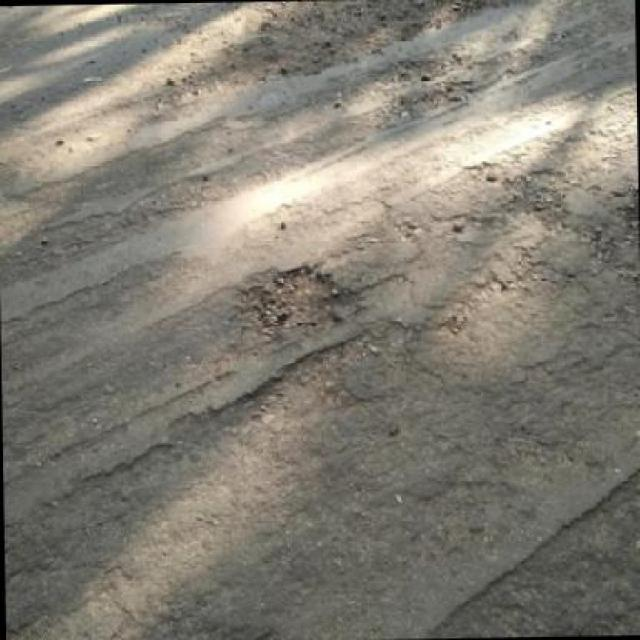pothole1: (232, 261, 358, 333)
